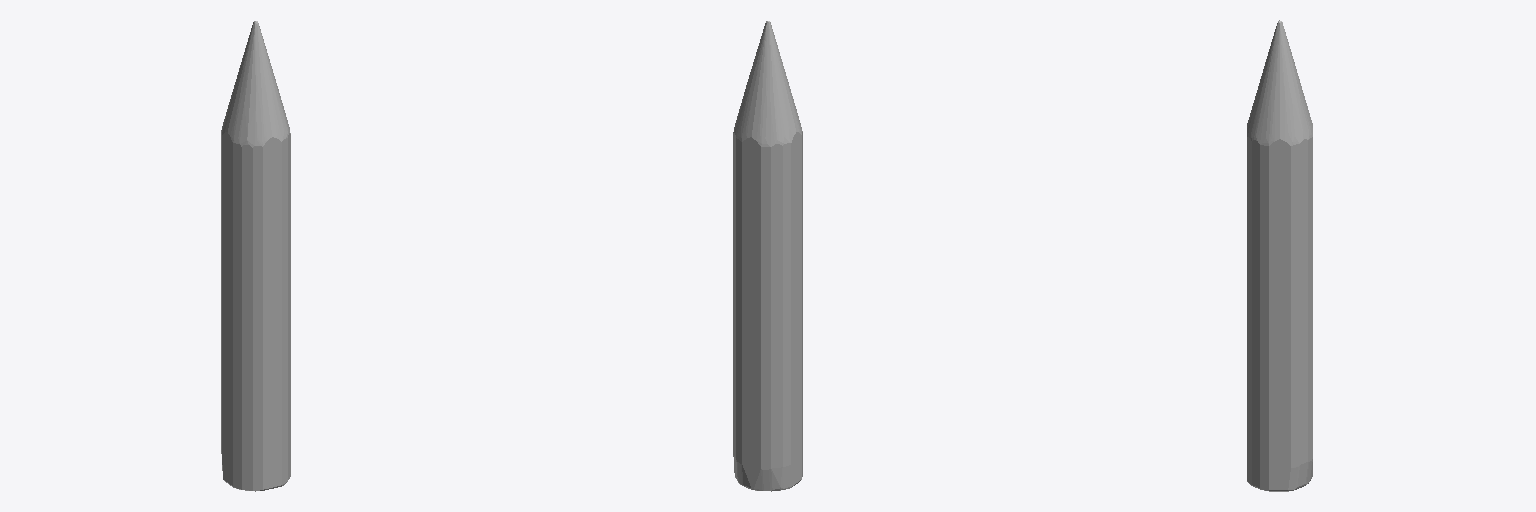
URDF robot description (root):
<robot name="root">
  <link name="link_coacd_convex_piece_0">
    <inertial>
      <origin xyz="0 0 0" rpy="0 0 0"/>
      <inertia ixx="1.84E-02" ixy="5.49E-08" ixz="-9.51E-07" iyy="1.84E-02" iyz="-6.89E-06" izz="6.47E-04"/>
    </inertial>
    <visual>
      <origin xyz="0 0 0" rpy="0 0 0"/>
      <geometry>
        <mesh filename="coacd_convex_piece_0.obj" scale="1.0000E+00 1.0000E+00 1.0000E+00"/>
      </geometry>
      <material name="">
        <color rgba="7.50E-01 7.50E-01 7.50E-01 1"/>
      </material>
    </visual>
    <collision>
      <origin xyz="0 0 0" rpy="0 0 0"/>
      <geometry>
        <mesh filename="coacd_convex_piece_0.obj" scale="1.0000E+00 1.0000E+00 1.0000E+00"/>
      </geometry>
    </collision>
  </link>
</robot>

--- Facts derived from the render (not from the file) ---
Views: 3 orthographic renders of the robot side by side, from view 1: azimuth 30°, elevation 25°; view 2: azimuth 150°, elevation 25°; view 3: azimuth 270°, elevation 25°.
Model root with 1 links and 0 joints (none), rooted at link_coacd_convex_piece_0, posed all joints at 0.
Links seen in each view (by area): view 1: link_coacd_convex_piece_0; view 2: link_coacd_convex_piece_0; view 3: link_coacd_convex_piece_0.
Link boxes in pixels (left/top/right/bottom): link_coacd_convex_piece_0: left=221, top=21, right=290, bottom=491; link_coacd_convex_piece_0: left=733, top=21, right=802, bottom=491; link_coacd_convex_piece_0: left=1247, top=20, right=1312, bottom=491.
Bounding box of the posed robot: 0.2537 × 0.2537 × 1.94 m (x, y, z).
1 mesh visuals loaded from 1 distinct referenced files (1 OBJ).
